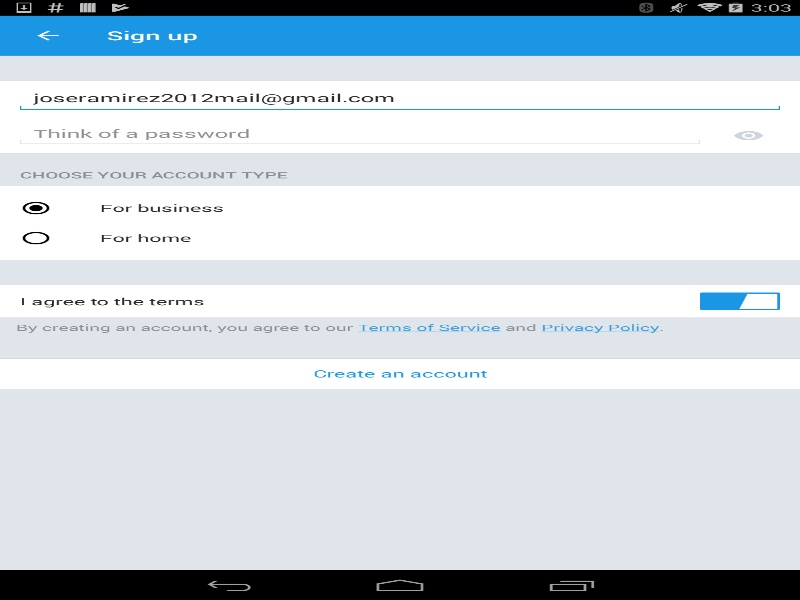Button: (0, 358, 800, 388), (10, 15, 85, 55), (720, 118, 800, 152)
Input: (0, 80, 800, 118), (33, 125, 686, 140)
